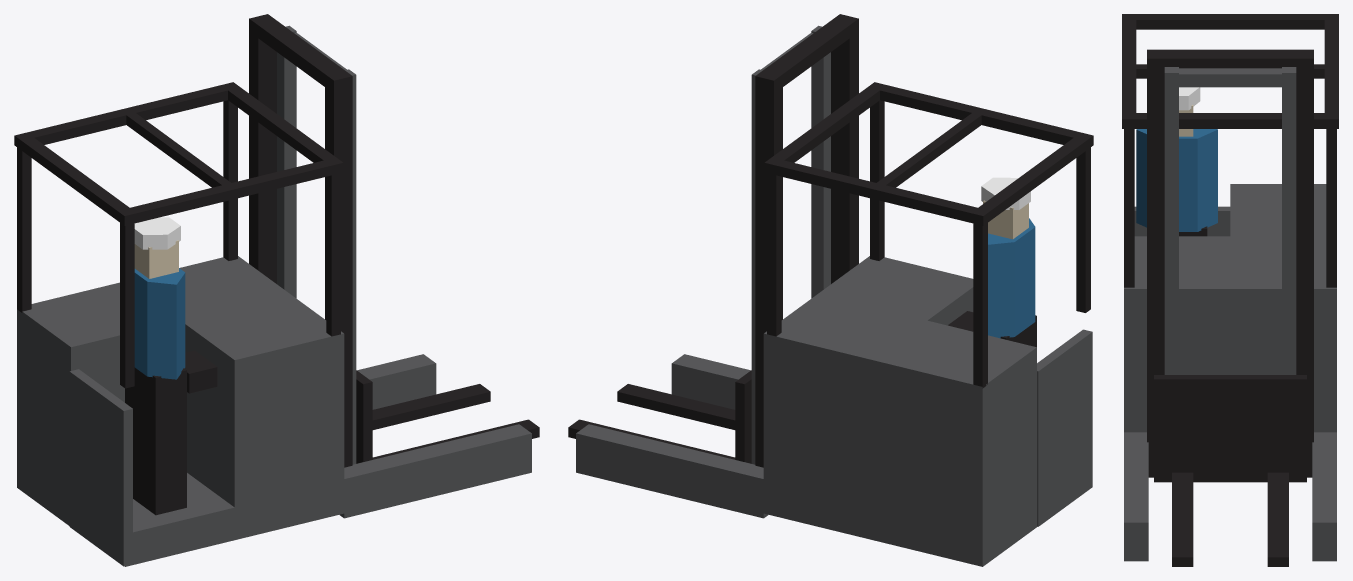
File: reachtruck.glb
3 views of the same model, side by side, from view 1: azimuth 30°, elevation 25°; view 2: azimuth 150°, elevation 25°; view 3: azimuth 270°, elevation 25° (orthographic).
Visible parts, largest first — view 1: romp, bestuurder, mast, mast_schuif, vorkbord; view 2: romp, mast, bestuurder, mast_schuif, vorkbord; view 3: romp, vorkbord, mast, mast_schuif, bestuurder.
Part boxes in pixels (box(x1,y1,x2,y2)): romp: box(14, 82, 531, 566); bestuurder: box(125, 217, 186, 515); mast: box(249, 14, 352, 467); mast_schuif: box(277, 25, 356, 464); vorkbord: box(356, 370, 539, 463); romp: box(576, 82, 1093, 566); mast: box(755, 14, 858, 467); bestuurder: box(981, 177, 1036, 347); mast_schuif: box(751, 25, 830, 464); vorkbord: box(568, 370, 751, 463); romp: box(1122, 14, 1338, 561); vorkbord: box(1154, 375, 1306, 566); mast: box(1147, 49, 1313, 477); mast_schuif: box(1164, 67, 1296, 374); bestuurder: box(1136, 87, 1217, 236).
Bounding box in the file's own units: 2.81 × 2.62 × 1.22.
